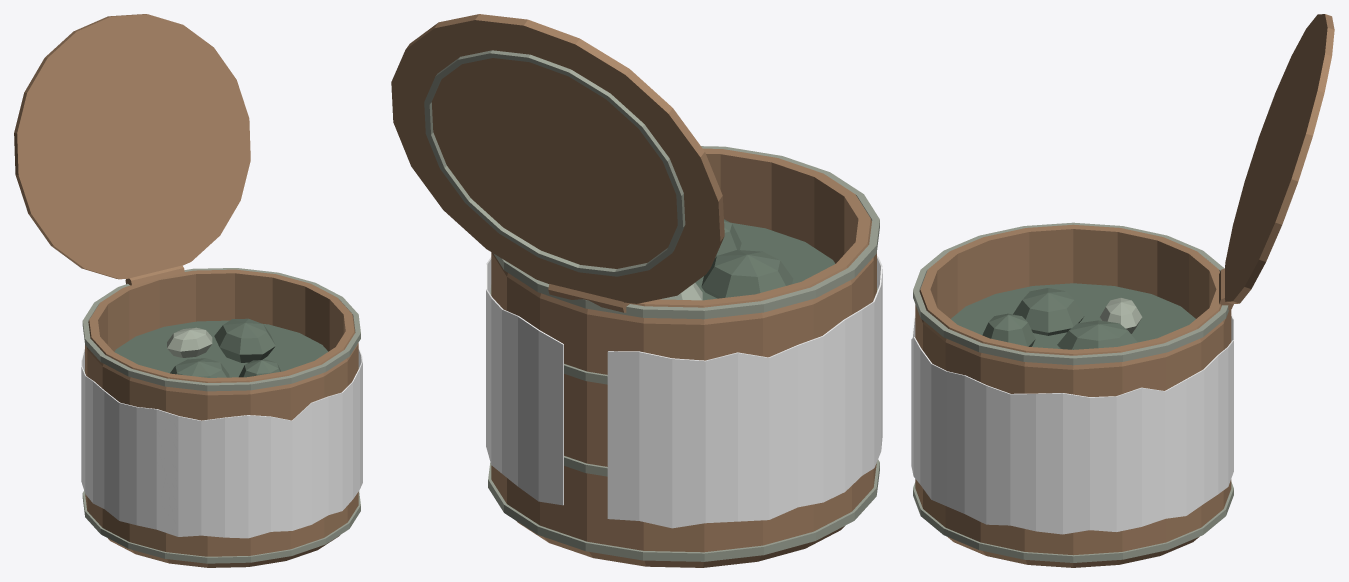
File: RottenFishBellyCan.fbx
The picture shows the model from 3 angles, left to right: view 1: azimuth 30°, elevation 25°; view 2: azimuth 150°, elevation 25°; view 3: azimuth 270°, elevation 25°; orthographic projection. The views are drawn at different scales.
Visible parts, largest first — view 1: OpenLid__Rust, WornPaperLabel__FishLabelPaper, CanBody__Rust, RolledBeads__WornSteel, SpoiledJuice__SpoiledFishDark, SpoiledFragments__SpoiledFishDark, SpoiledFragments__SpoiledFish, LidHinge__Rust; view 2: OpenLid__Rust, WornPaperLabel__FishLabelPaper, CanBody__Rust, RolledBeads__WornSteel, OpenLid__WornSteel, SpoiledFragments__SpoiledFishDark, SpoiledJuice__SpoiledFishDark, LidHinge__Rust; view 3: WornPaperLabel__FishLabelPaper, CanBody__Rust, OpenLid__Rust, RolledBeads__WornSteel, SpoiledJuice__SpoiledFishDark, SpoiledFragments__SpoiledFishDark, SpoiledFragments__SpoiledFish.
Part boxes in pixels (x1,y1,x2,y2): OpenLid__Rust: (14,14,250,279); WornPaperLabel__FishLabelPaper: (81,344,362,538); CanBody__Rust: (85,269,358,567); RolledBeads__WornSteel: (82,268,360,563); SpoiledJuice__SpoiledFishDark: (114,320,328,377); SpoiledFragments__SpoiledFishDark: (170,318,280,377); SpoiledFragments__SpoiledFish: (167,327,212,357); LidHinge__Rust: (125,265,184,285); OpenLid__Rust: (391,14,724,303); WornPaperLabel__FishLabelPaper: (486,256,882,528); CanBody__Rust: (491,148,876,567); RolledBeads__WornSteel: (488,146,879,561); OpenLid__WornSteel: (424,50,685,276); SpoiledFragments__SpoiledFishDark: (701,219,793,298); SpoiledJuice__SpoiledFishDark: (695,222,835,300); LidHinge__Rust: (548,284,630,312); WornPaperLabel__FishLabelPaper: (911,313,1233,534); CanBody__Rust: (915,224,1231,567); OpenLid__Rust: (1225,14,1334,304); RolledBeads__WornSteel: (913,222,1233,562); SpoiledJuice__SpoiledFishDark: (951,283,1195,348); SpoiledFragments__SpoiledFishDark: (982,288,1137,349); SpoiledFragments__SpoiledFish: (1100,298,1142,333).
Bounding box in the file's own units: 0.1289 × 0.2102 × 0.1687.
